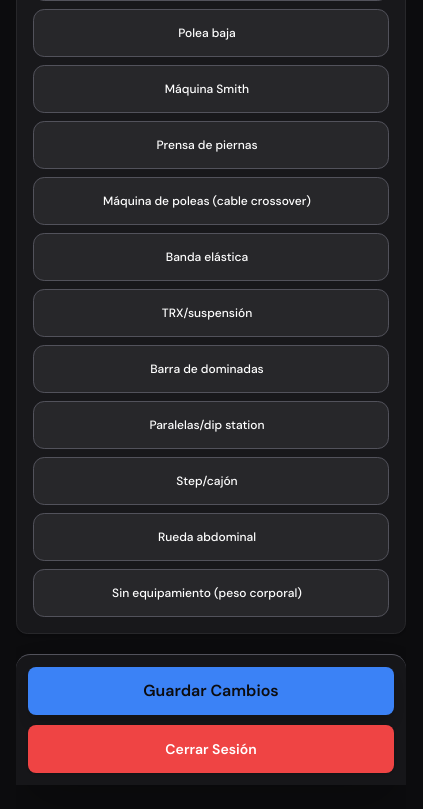
TASK-64: Profile Editing Flow & Goal Change Confirmation (RF-01, CA-01.5) › should display error toast when profile update API returns error
(page scrolled)
// Click save directly (no goal change)
Click the button "Guardar Cambios".
click(211, 691)  # box [28,667,394,715]
(page scrolled)
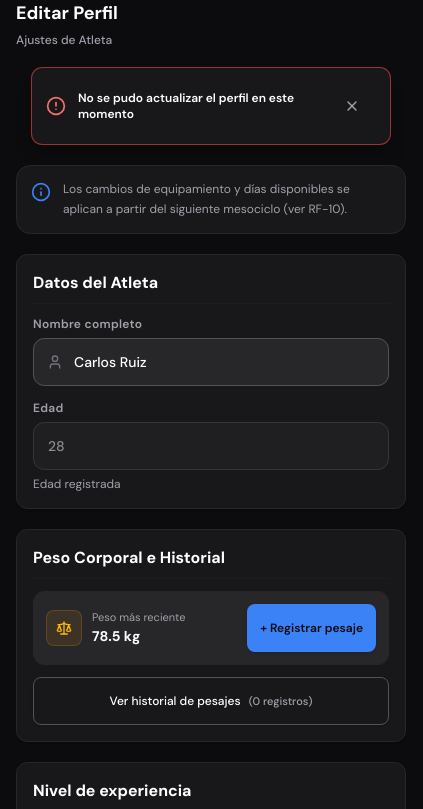
Check: the text "No se pudo actualizar el perfil en este momento" is shown, box [78,90,316,122]
